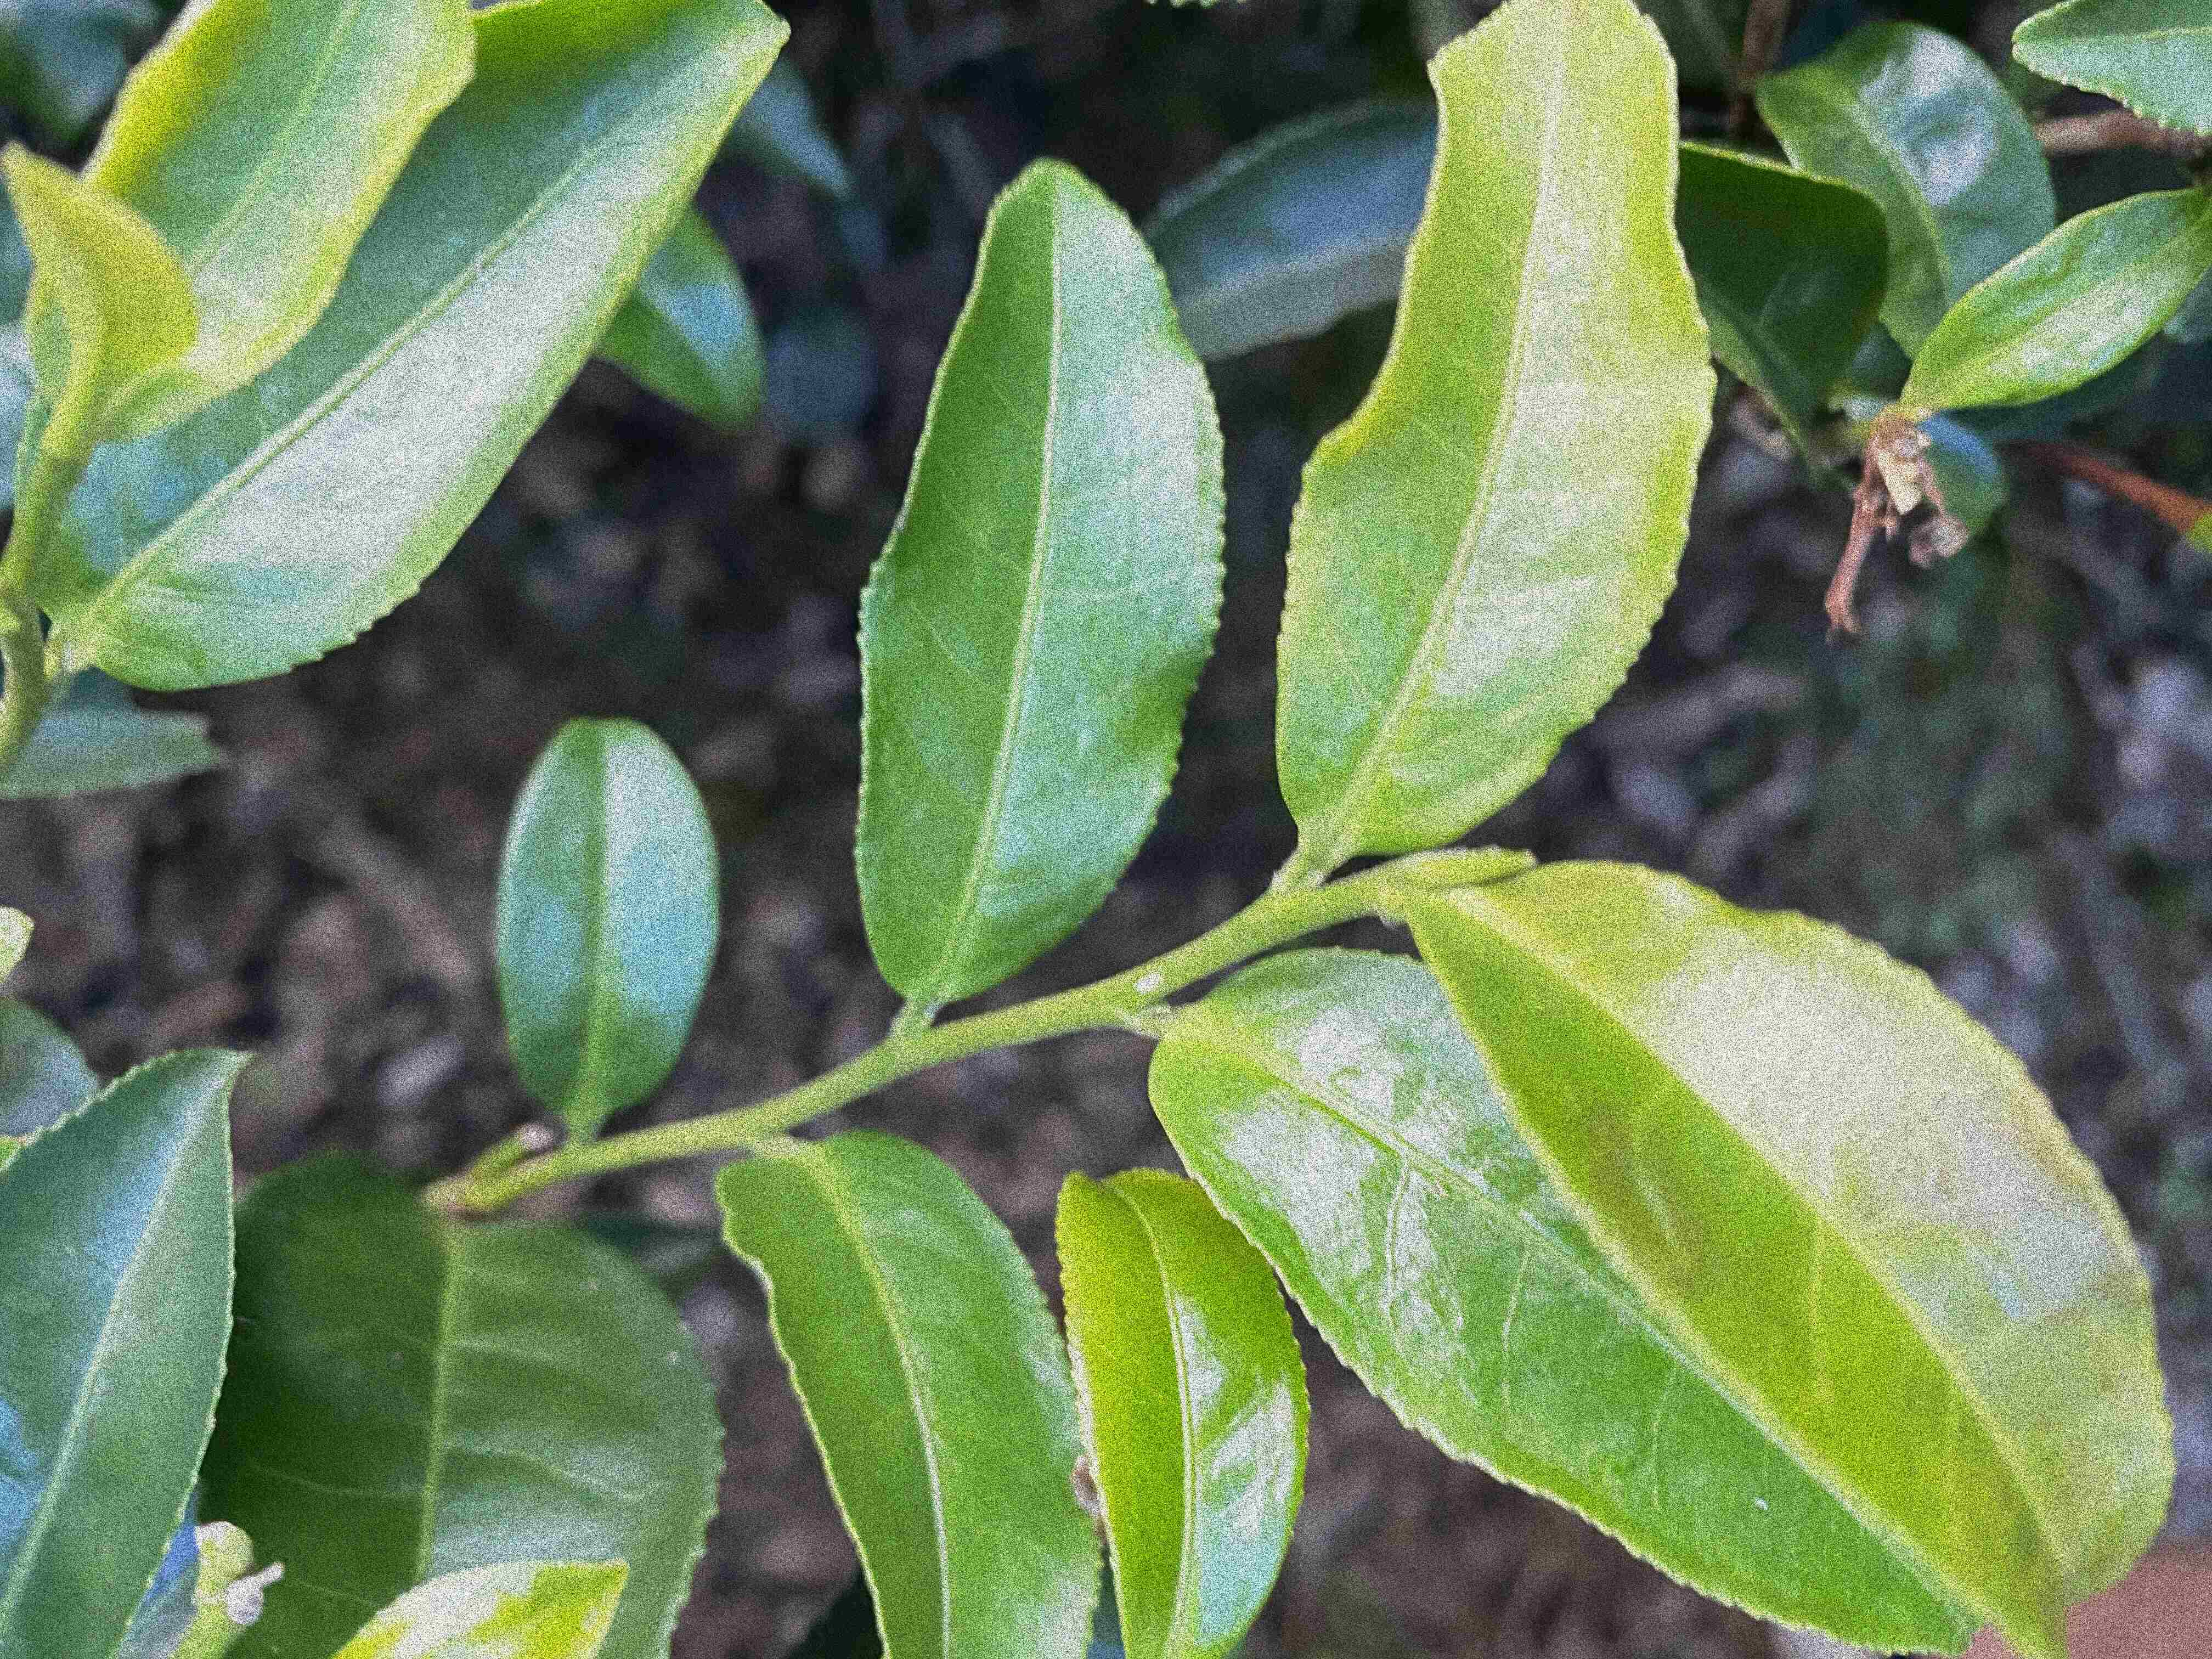healthy: (1277, 5, 1710, 859), (852, 157, 1238, 1014), (486, 711, 726, 1134)
tanju_high: (714, 1122, 1108, 1656)
tanju_low: (1406, 857, 2179, 1656)
